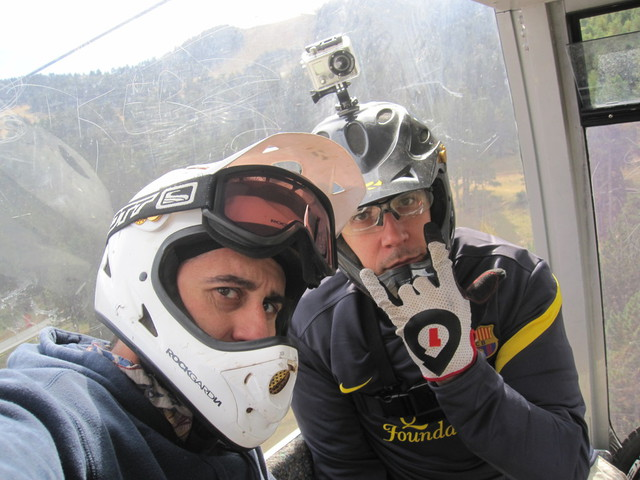helmet: (111, 163, 353, 432), (297, 117, 468, 267)
